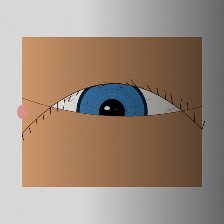pterygium_lesion: (172, 101, 200, 123)
